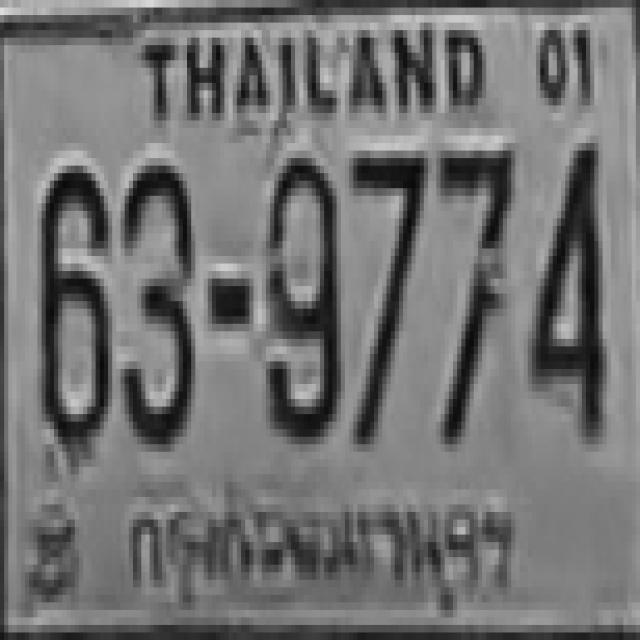3: (121, 162, 191, 440)
4: (526, 136, 604, 429)
6: (37, 158, 108, 452)
7: (436, 143, 512, 437), (349, 143, 424, 437)
9: (262, 150, 336, 437)
Bangkok: (116, 480, 521, 600)
